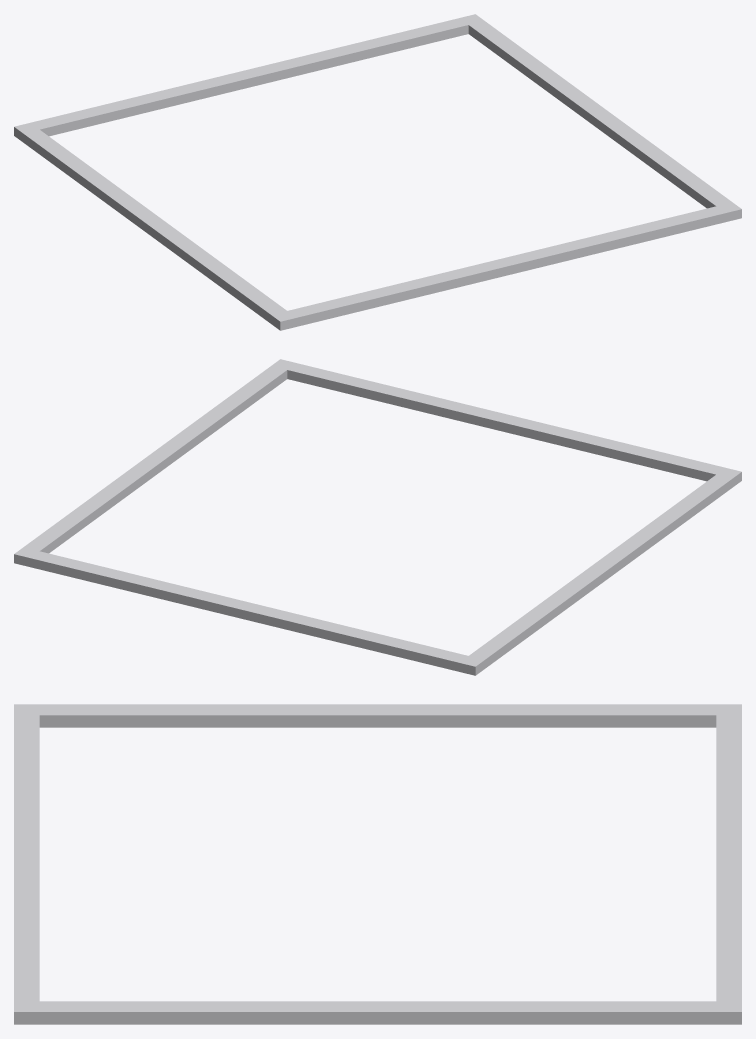
File: frame-skin-7.glb
The picture shows the model from 3 angles, top to bottom: view 1: azimuth 30°, elevation 25°; view 2: azimuth 150°, elevation 25°; view 3: azimuth 270°, elevation 25°; orthographic projection. The views are drawn at different scales.
Visible parts, largest first — view 1: frame-skin-7; view 2: frame-skin-7; view 3: frame-skin-7.
Boxes of the visible parts, <box> form: frame-skin-7: <box>14,14,741,330</box>; frame-skin-7: <box>14,359,741,675</box>; frame-skin-7: <box>14,704,741,1024</box>.
Size of the model in its own units: 17 by 0.32 by 17.
1 material, 1 textured.
